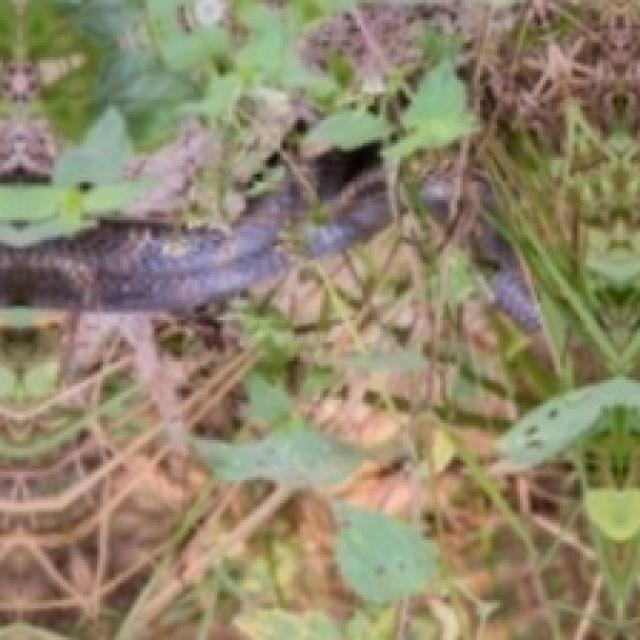king cobra: (0, 189, 299, 311), (305, 169, 390, 258), (482, 231, 539, 330), (421, 174, 452, 220)
